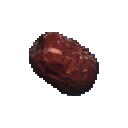gd: (26, 16, 103, 116)
